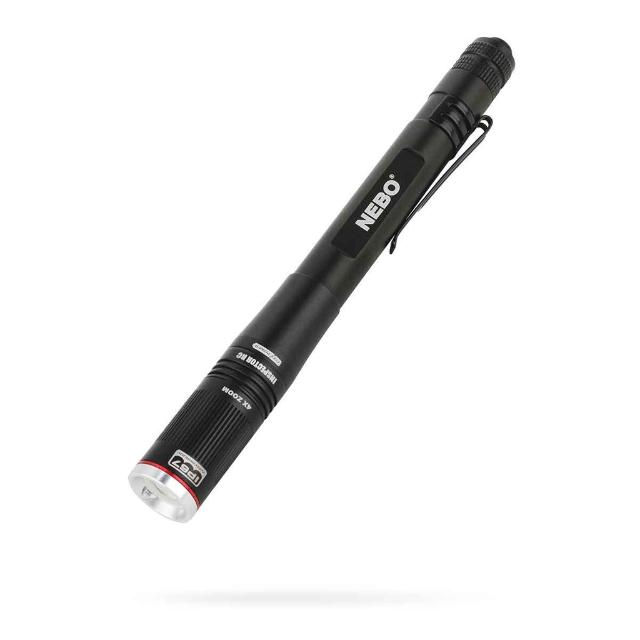Flashlight: (119, 29, 524, 533)
